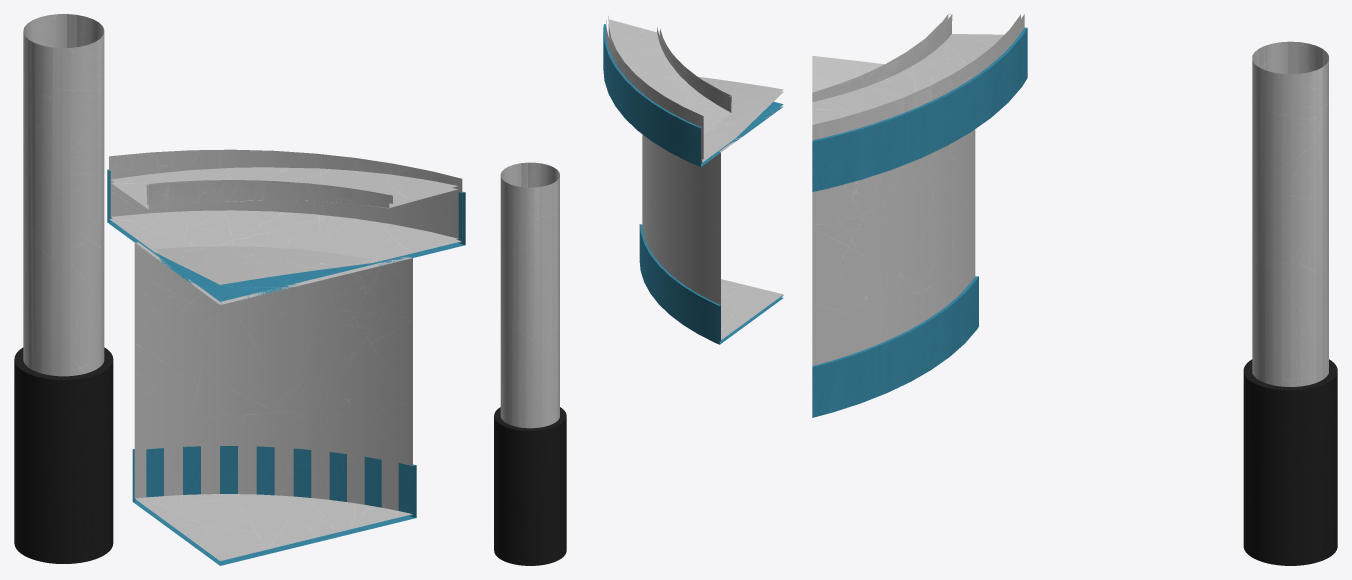
Rendered from PickingStation_Cube09.glb.
The picture shows the model from 3 angles, left to right: view 1: azimuth 30°, elevation 25°; view 2: azimuth 150°, elevation 25°; view 3: azimuth 270°, elevation 25°; orthographic projection. The views are drawn at different scales.
Visible parts, largest first — view 1: color-13[5]; view 2: color-13[5]; view 3: color-13[5].
Boxes of the visible parts, x1,y1,x2,y2 form: color-13[5]: (14,14,465,565); color-13[5]: (494,16,783,565); color-13[5]: (812,14,1337,565).
Bounding box in the file's own units: 0.1604 × 0.32 × 0.3122.
Materials: 3 (3 with a texture image).
